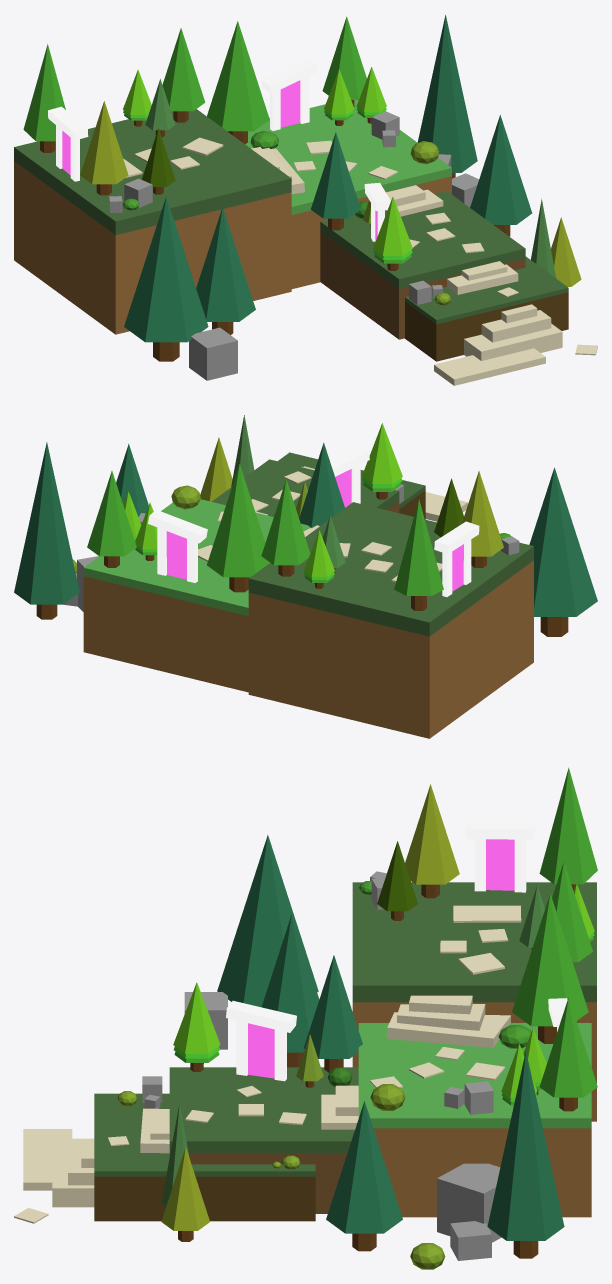
File: environment11.glb
3 renders of one model, top to bottom at view 1: azimuth 30°, elevation 25°; view 2: azimuth 150°, elevation 25°; view 3: azimuth 270°, elevation 25°, orthographic. The views are drawn at different scales.
Visible parts, largest first — view 1: terrains.001, terrains.002, terrains, terrains.003, trees.008, trees.014, trees.009, trees.004, trees.005, trees.010, trees.006, trees.012 (+26 smaller); view 2: terrains.001, terrains, trees.008, trees.014, trees.004, terrains.002, trees.012, trees.001, trees, trees.010, trees.006, trees.016 (+19 smaller); view 3: terrains, terrains.001, terrains.002, terrains.003, trees.014, trees.008, trees.005, trees.004, trees.009, trees.012, rocks.004, trees.010 (+33 smaller).
Part boxes in pixels (x1,y1,x2,y2): terrains.001: (14,109,291,334); terrains.002: (320,191,525,339); terrains: (245,100,451,288); terrains.003: (405,256,568,361); trees.008: (124,197,208,361); trees.014: (417,15,477,178); trees.009: (196,207,255,334); trees.004: (207,21,269,144); trees.005: (470,115,532,236); trees.010: (310,132,360,230); trees.006: (80,101,128,195); trees.012: (23,44,65,152); terrains.001: (248,502,533,738); terrains: (83,499,311,692); trees.008: (529,467,597,636); trees.014: (14,442,79,619); trees.004: (207,464,269,592); terrains.002: (212,459,399,516); trees.012: (394,499,443,610); trees.001: (261,479,310,576); trees: (87,471,136,567); trees.010: (299,442,344,527); trees.006: (462,471,503,567); trees.016: (362,423,402,499); terrains: (358,1023,591,1217); terrains.001: (352,882,596,1121); terrains.002: (169,1067,358,1213); terrains.003: (94,1093,315,1221); trees.014: (487,1051,564,1258); trees.008: (217,835,318,1007); trees.005: (326,1101,402,1251); trees.004: (512,893,588,1043); trees.009: (261,914,319,1067); trees.012: (539,767,597,890); rocks.004: (437,1163,501,1242); trees.010: (304,955,362,1072).
Size of what is drawn, in the model's own units: 29.18 by 13.5 by 27.01.
